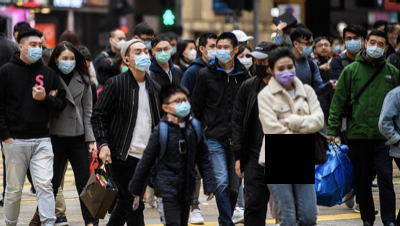with_mask: (130, 47, 152, 71), (274, 62, 296, 84), (169, 96, 191, 117), (23, 40, 44, 61), (252, 59, 271, 79), (368, 38, 385, 59), (217, 43, 234, 63), (345, 33, 362, 53), (59, 54, 76, 73), (155, 44, 171, 63), (298, 39, 314, 57), (238, 52, 253, 68), (206, 42, 218, 59), (140, 35, 154, 49), (114, 35, 126, 49), (185, 45, 197, 59), (332, 42, 341, 54)
without_mask: (316, 42, 331, 55)
